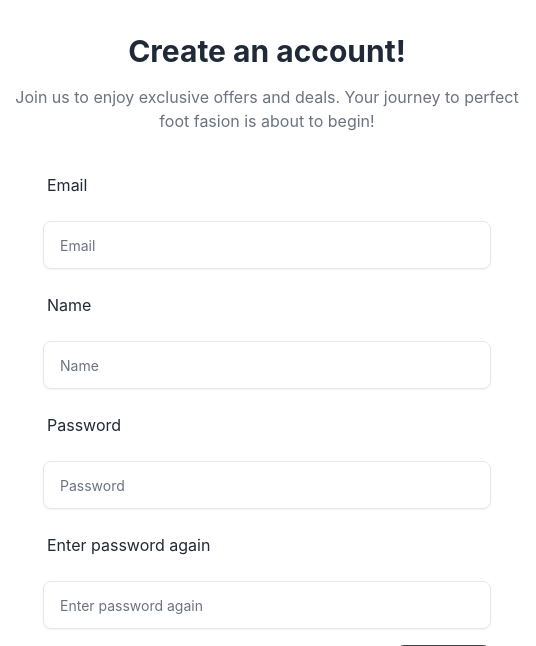
Signup › button › disabled if email field is wrong
Click the field labelled "Email" at (267, 245), box [43,221,491,269]
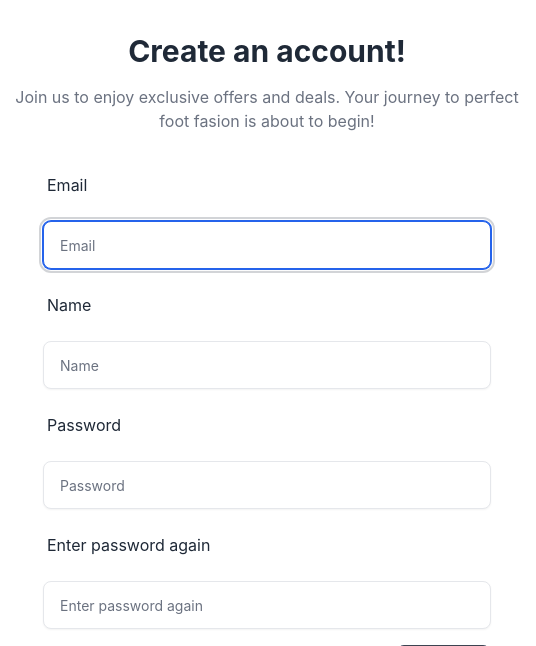
Type keys "asdfasd"
(page scrolled)
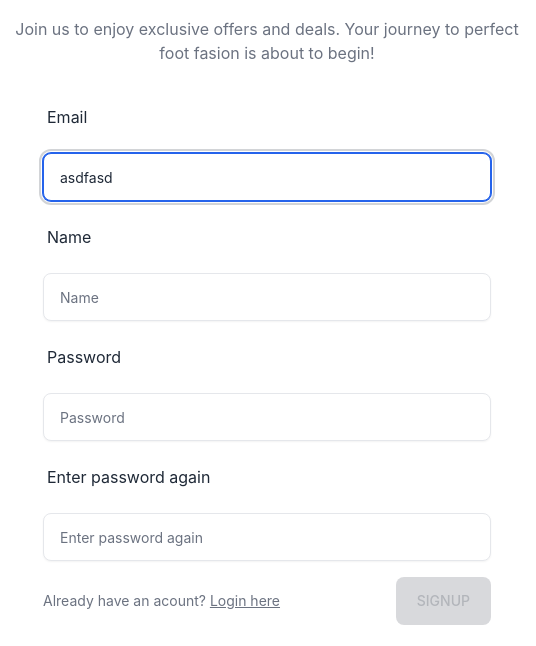
Expected: the button "Signup" is disabled, [396,577,491,625]
